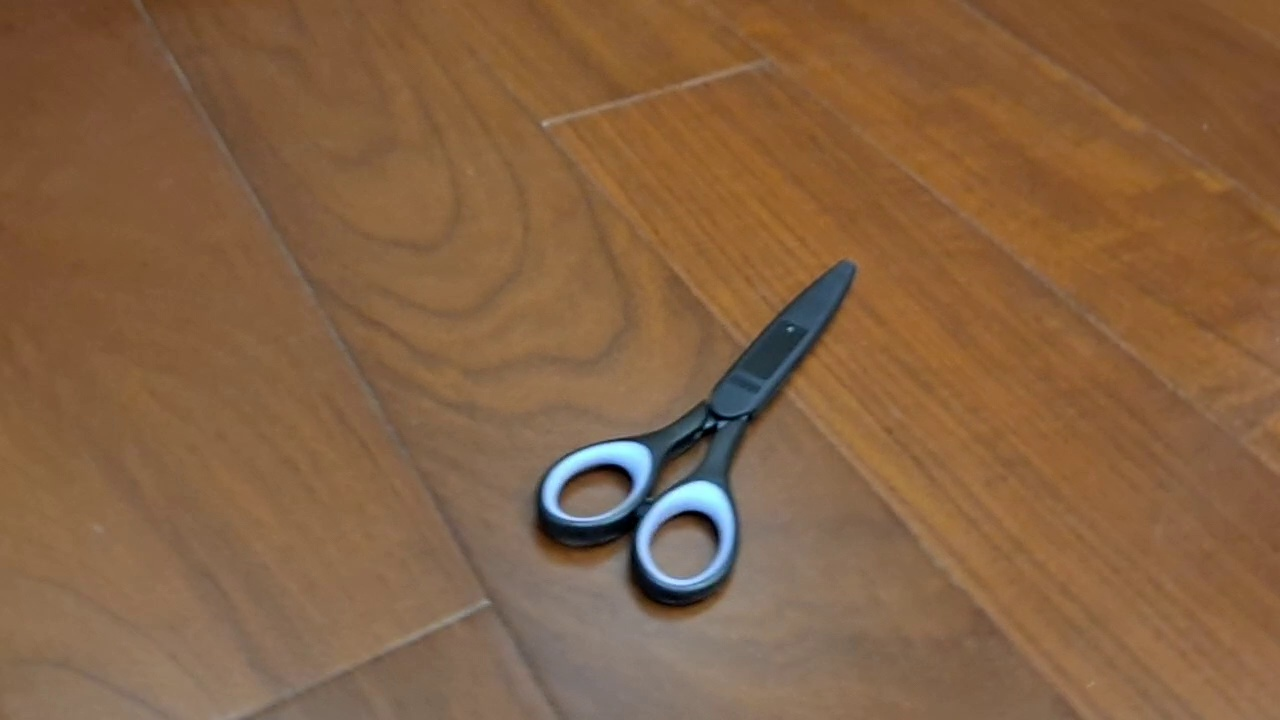scissors: (532, 256, 858, 609)
